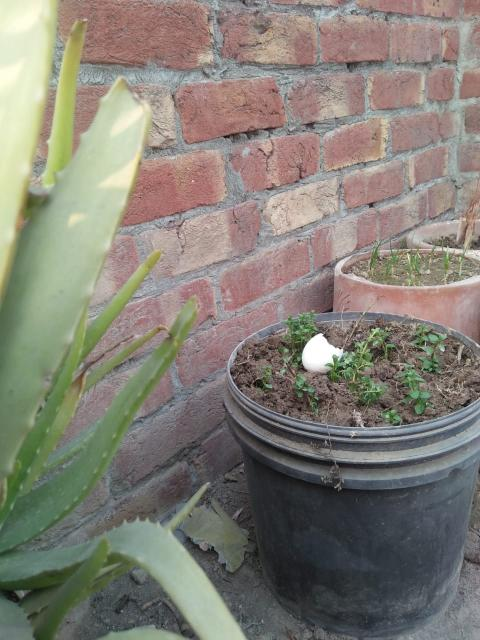Roto: (301, 332, 348, 373)
